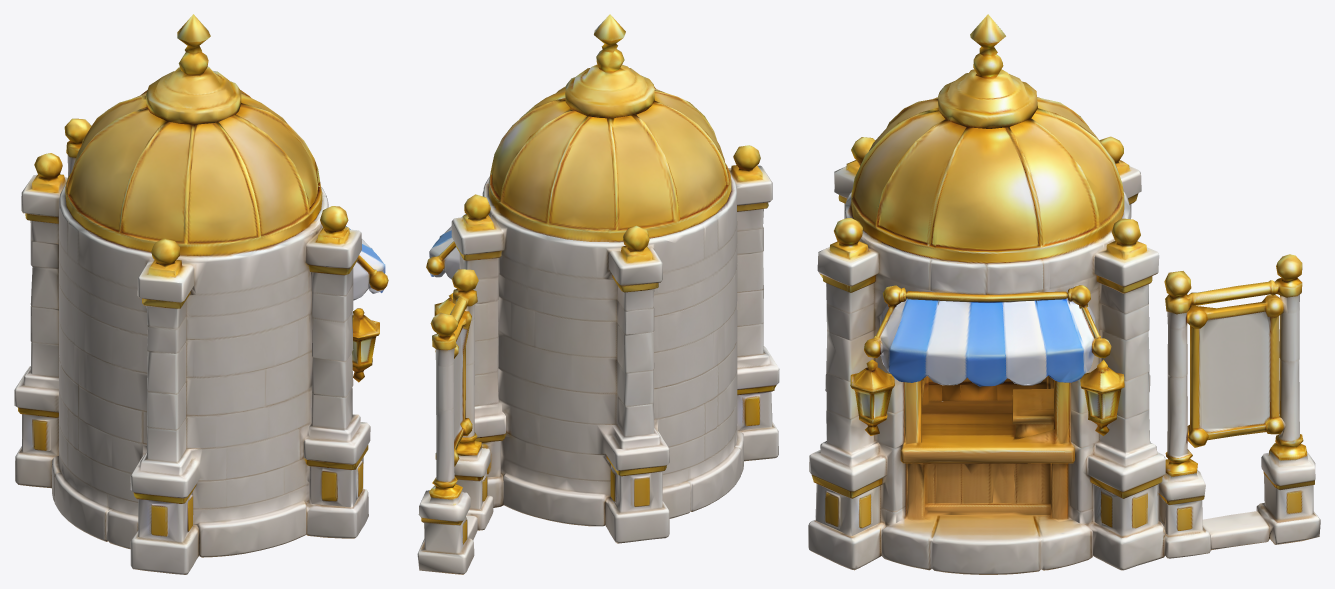
File: HaloReasonHQ_GuardPost_HD_src.glb
3 views of the same model, side by side, from view 1: azimuth 30°, elevation 25°; view 2: azimuth 150°, elevation 25°; view 3: azimuth 270°, elevation 25° (orthographic). The views are drawn at different scales.
Visible parts, largest first — view 1: tripo_node_2c6e20bb-1329-4027-a83b-bafe368822f6; view 2: tripo_node_2c6e20bb-1329-4027-a83b-bafe368822f6; view 3: tripo_node_2c6e20bb-1329-4027-a83b-bafe368822f6.
Boxes of the visible parts, bbox=[...] form: tripo_node_2c6e20bb-1329-4027-a83b-bafe368822f6: bbox=[14, 14, 388, 574]; tripo_node_2c6e20bb-1329-4027-a83b-bafe368822f6: bbox=[417, 14, 779, 574]; tripo_node_2c6e20bb-1329-4027-a83b-bafe368822f6: bbox=[808, 14, 1320, 574].
Bounding box in the file's own units: 0.5873 × 0.9766 × 0.9018.
Materials: 1 (1 with a texture image).
